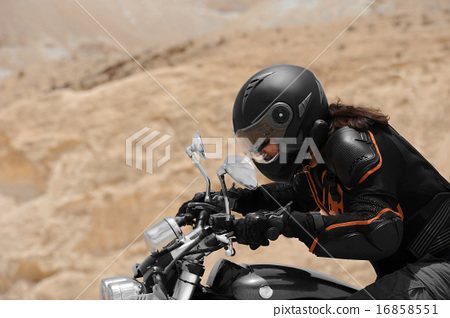helmet: (234, 66, 329, 178)
